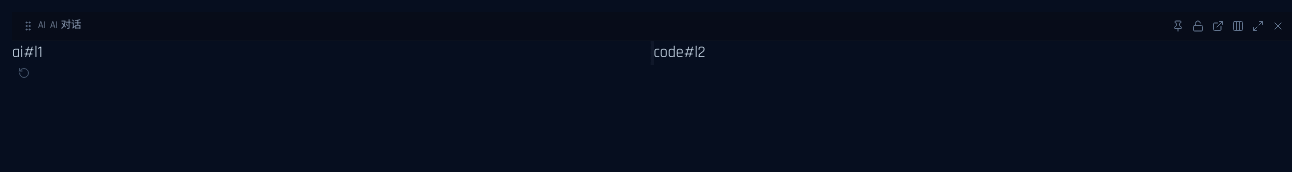
Test: PanelManager 布局操作 › 关闭面板: 树塌缩（root 只剩单 leaf 时折叠且按钮消失）
This screenshot has width=1292, height=172.
Click the button titled "关闭面板". click: (1278, 26)
box: [1268, 16, 1288, 36]
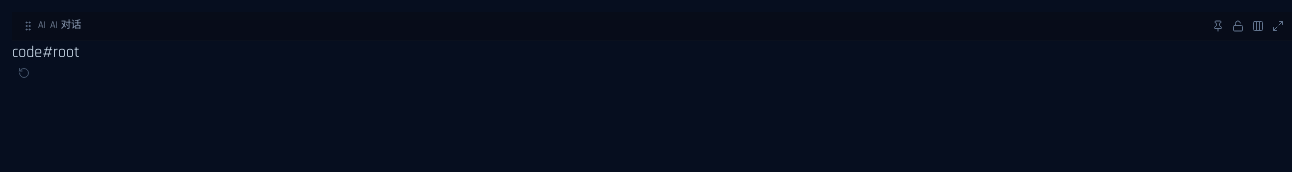
Expected: the text "ai#l1" is gone
Expected: the element showing "AI AI 对话 code#root" is shown, [12, 12, 1291, 81]
Expected: the button titled "关闭面板" is gone
